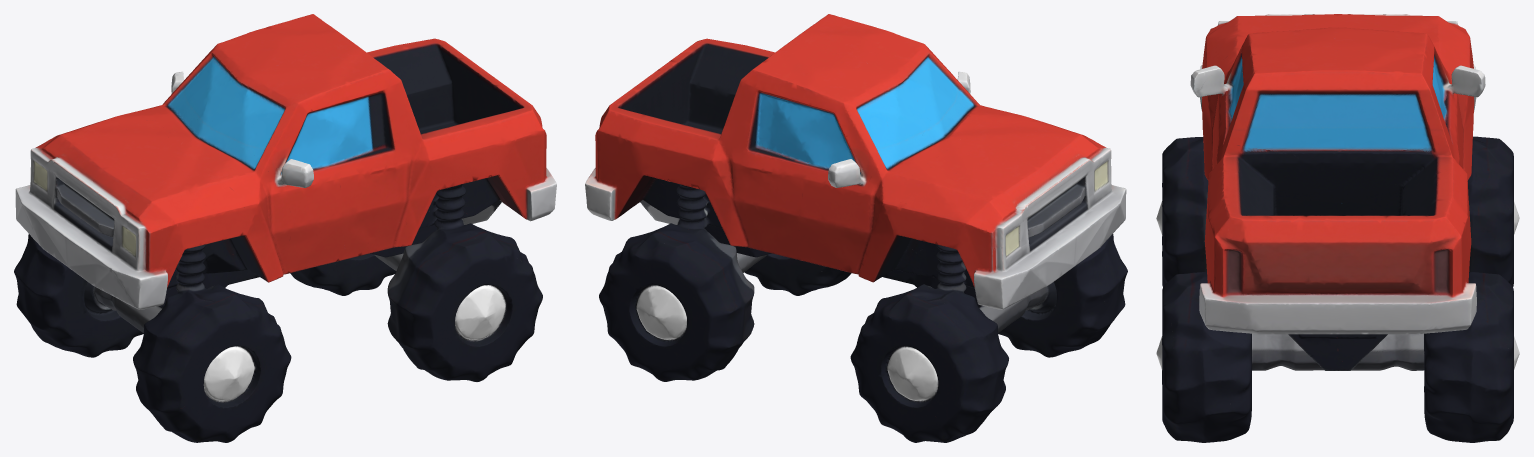
Rendered from lifted-truck.glb.
The picture shows the model from 3 angles, left to right: view 1: azimuth 30°, elevation 25°; view 2: azimuth 150°, elevation 25°; view 3: azimuth 270°, elevation 25°; orthographic projection. The views are drawn at different scales.
Bounding box in the file's own units: 1.9 × 1.26 × 1.23.
1 material, 1 textured.
